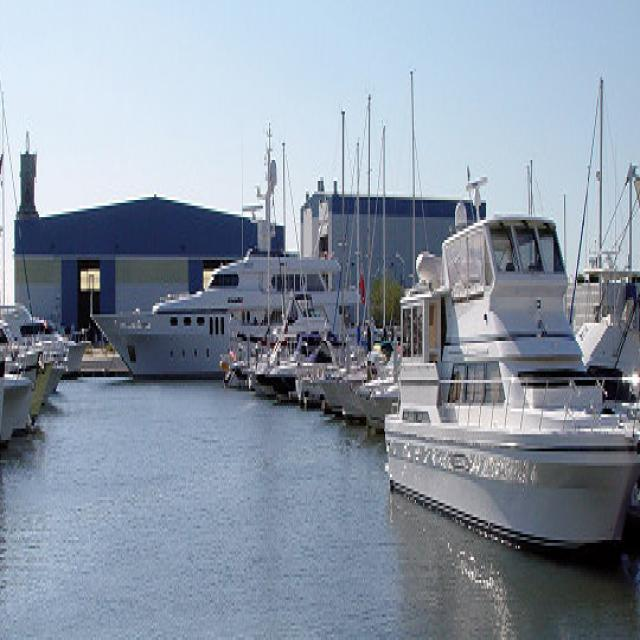houseboat: (380, 211, 638, 566)
